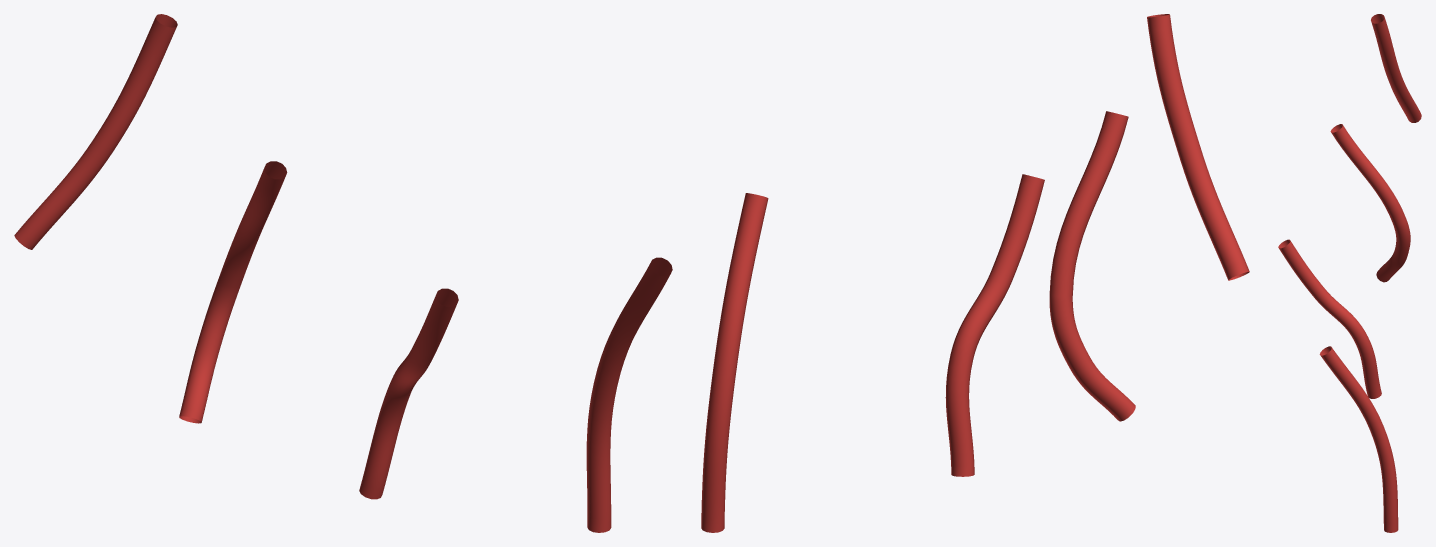
The picture shows the model from 3 angles, left to right: view 1: azimuth 30°, elevation 25°; view 2: azimuth 150°, elevation 25°; view 3: azimuth 270°, elevation 25°; orthographic projection. The views are drawn at different scales.
Parts seen in each view (by area): view 1: 右侧趾足底总动脉; view 2: 右侧趾足底总动脉; view 3: 右侧趾足底总动脉.
Boxes of the visible parts, x1=… form: 右侧趾足底总动脉: x1=14, y1=14, x2=672, y2=532; 右侧趾足底总动脉: x1=701, y1=14, x2=1249, y2=532; 右侧趾足底总动脉: x1=1278, y1=14, x2=1421, y2=532.
Size of the model in its own units: 0.0584 by 0.0601 by 0.0205.
